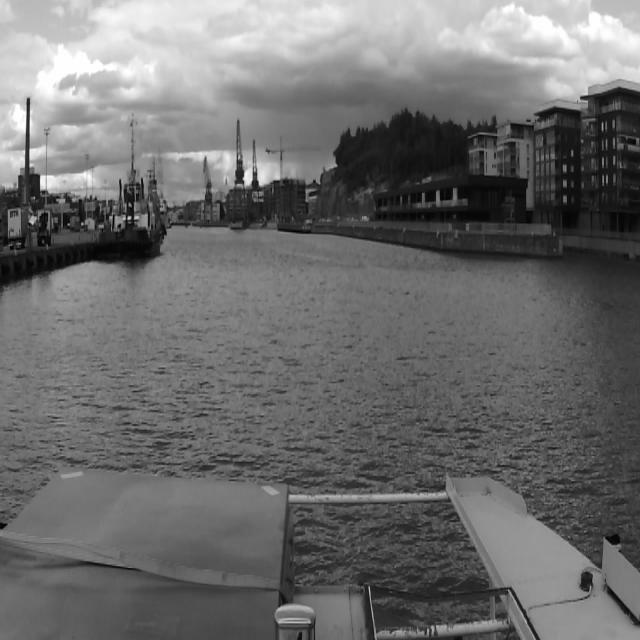ship: (96, 113, 162, 267)
